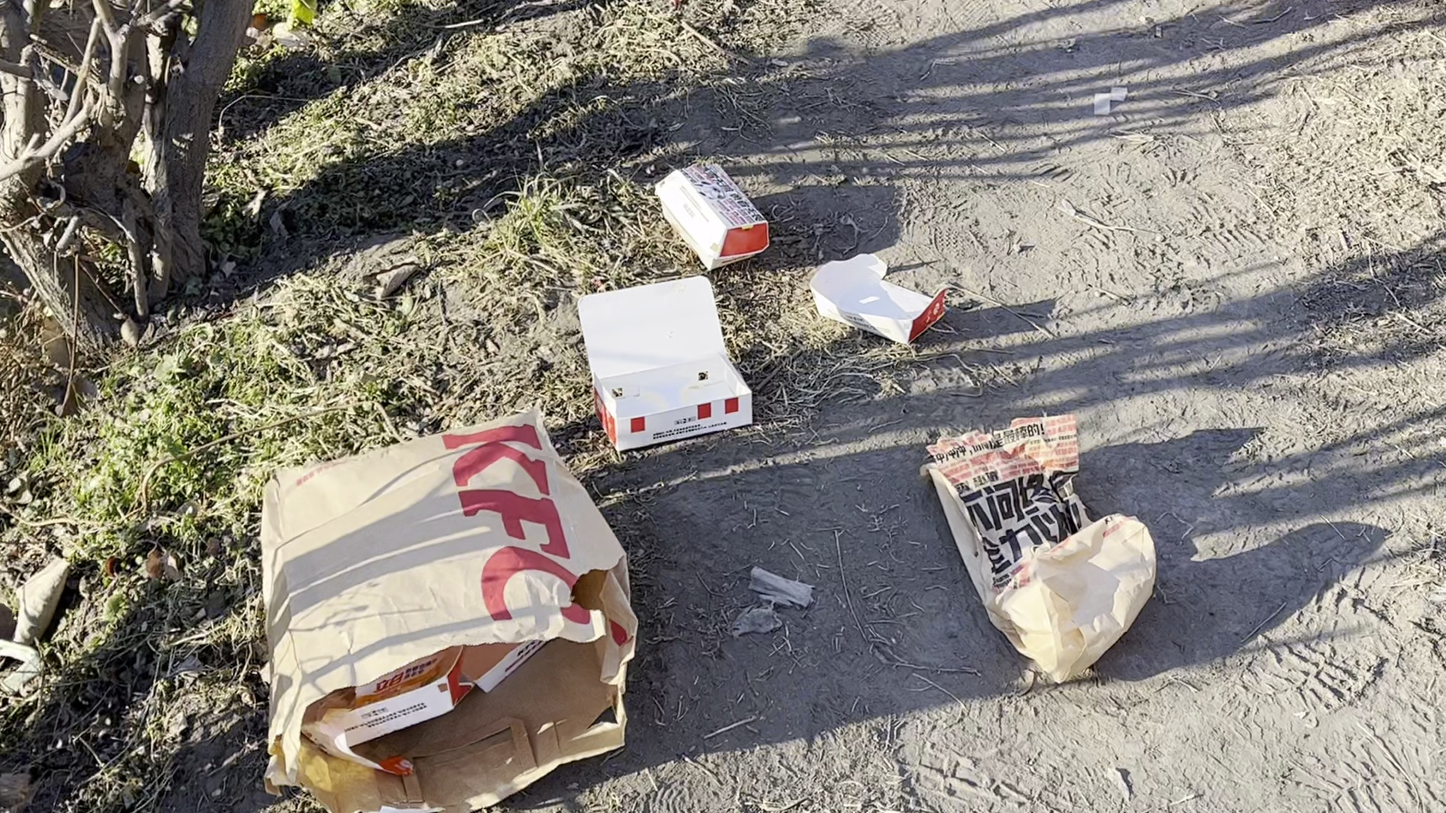floater: (259, 415, 639, 813), (925, 415, 1155, 681), (580, 277, 759, 448), (654, 160, 766, 266), (813, 252, 944, 342), (735, 567, 813, 637)
